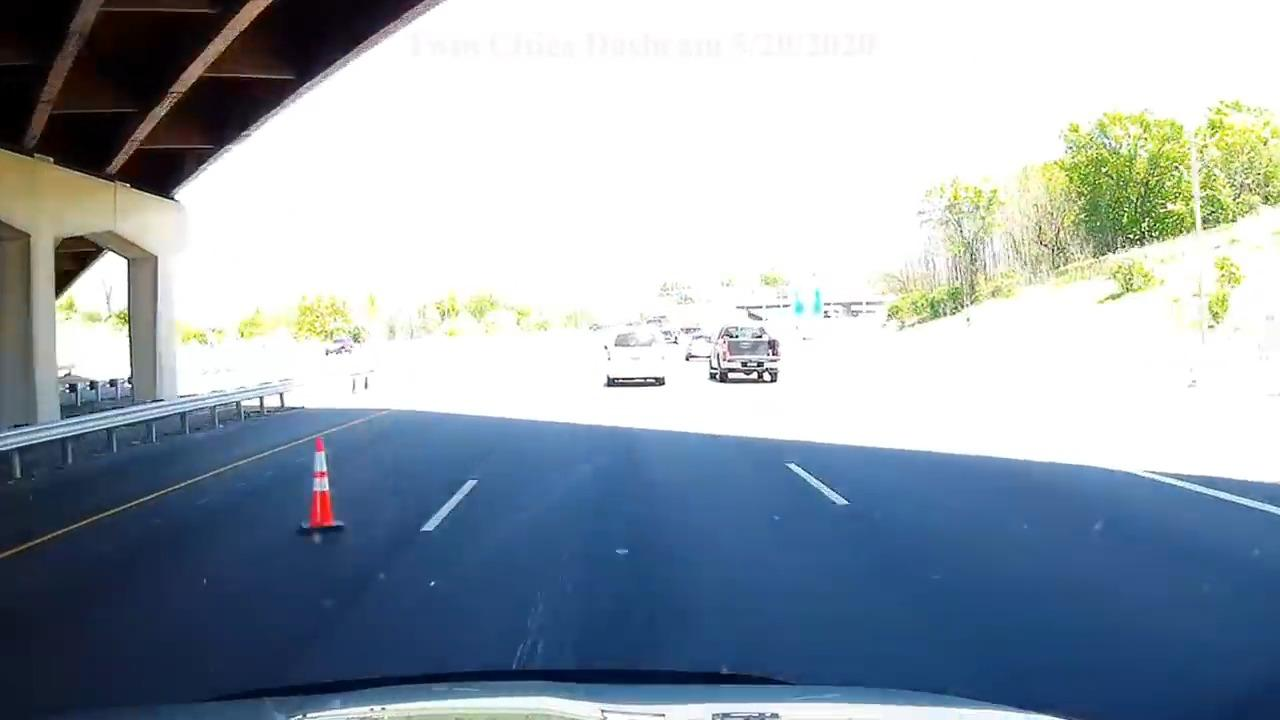car: (707, 325, 781, 384), (602, 326, 668, 387), (324, 336, 355, 358)
traffic cone: (297, 436, 345, 534)
